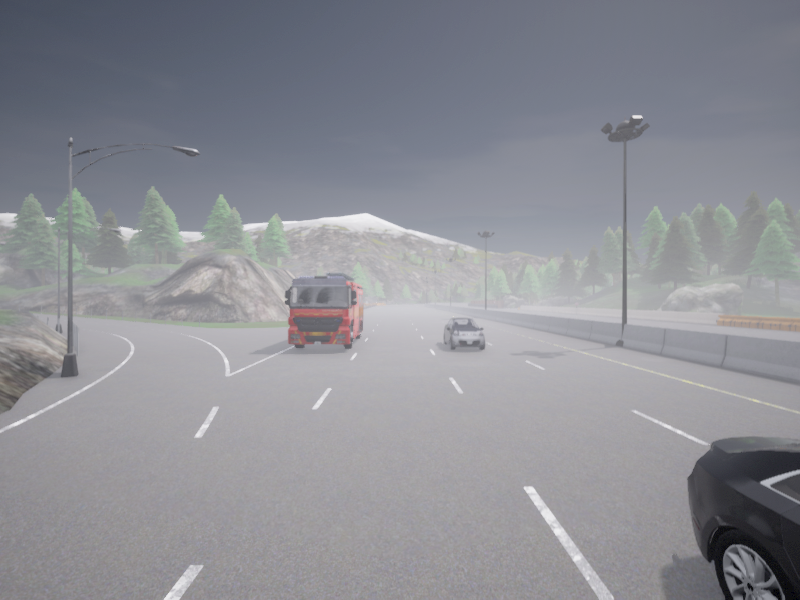vehicle: (687, 436, 799, 599), (285, 272, 363, 348), (444, 317, 484, 349)
